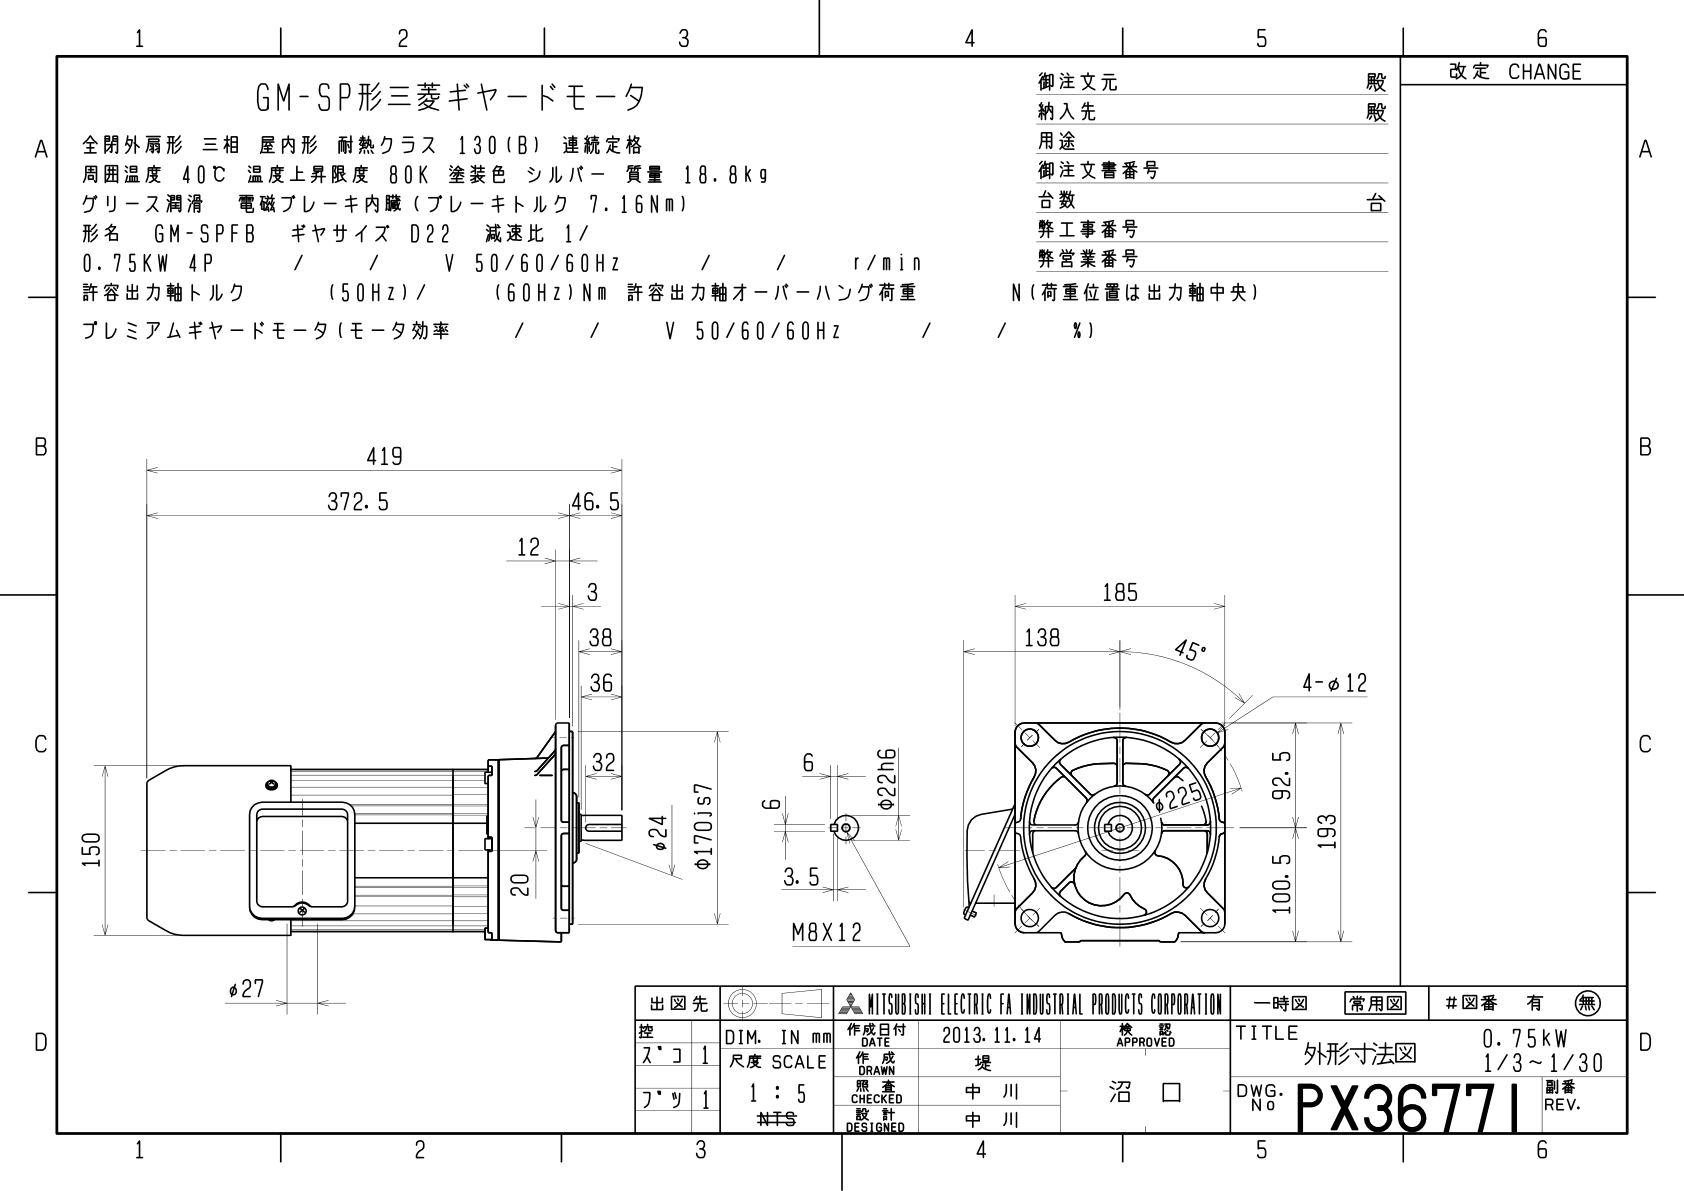GM_SP_屋内_三相_フランジ: (70, 398, 1371, 980)
